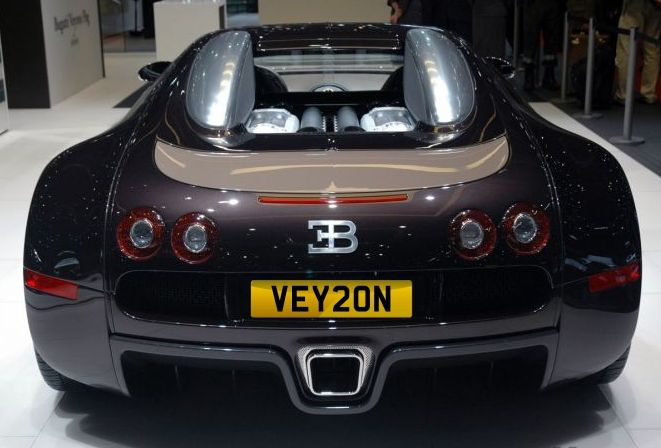plate: (253, 278, 415, 315)
